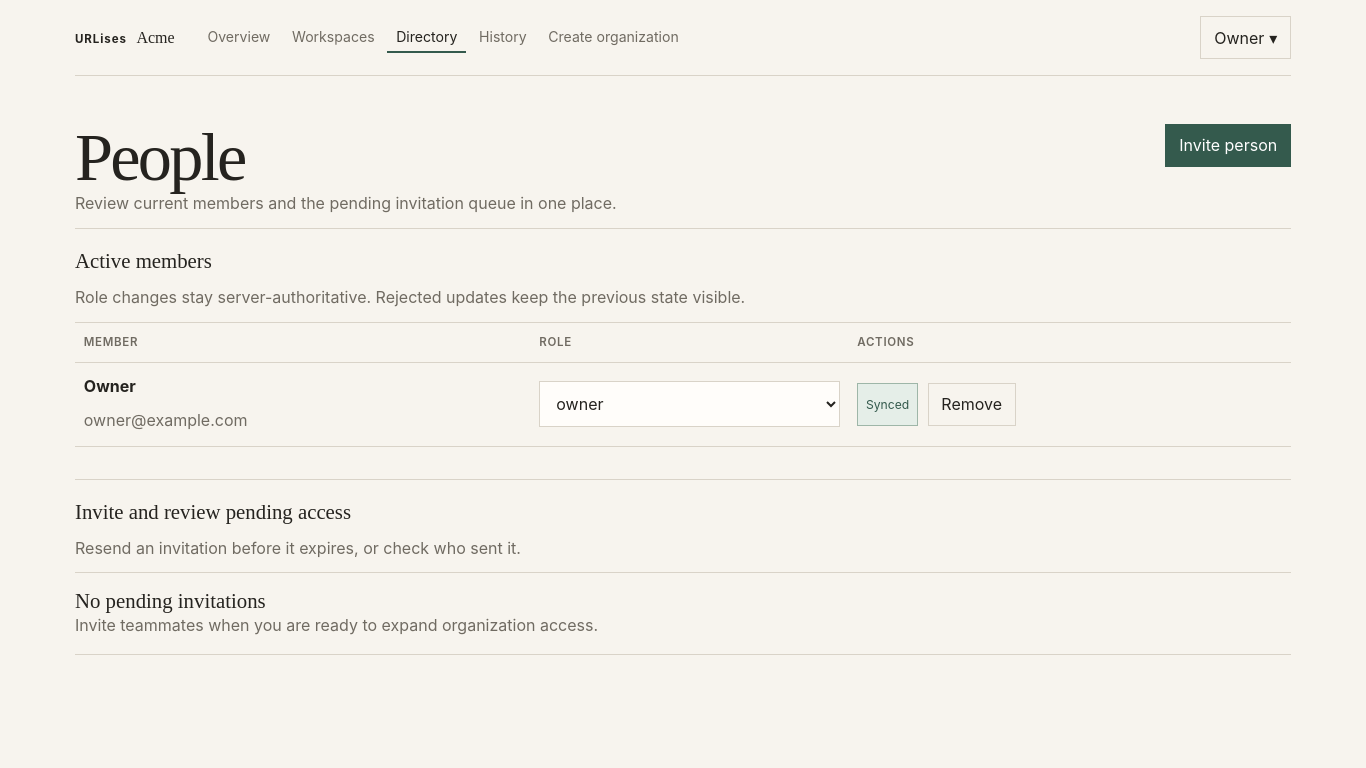
Test: members page › records a new invitation and refreshes the pending list
Expected: the heading "Active members" is shown, [75, 249, 212, 272]
Click the button "Invite person" at coordinates (1228, 145), box [1166, 124, 1291, 167]
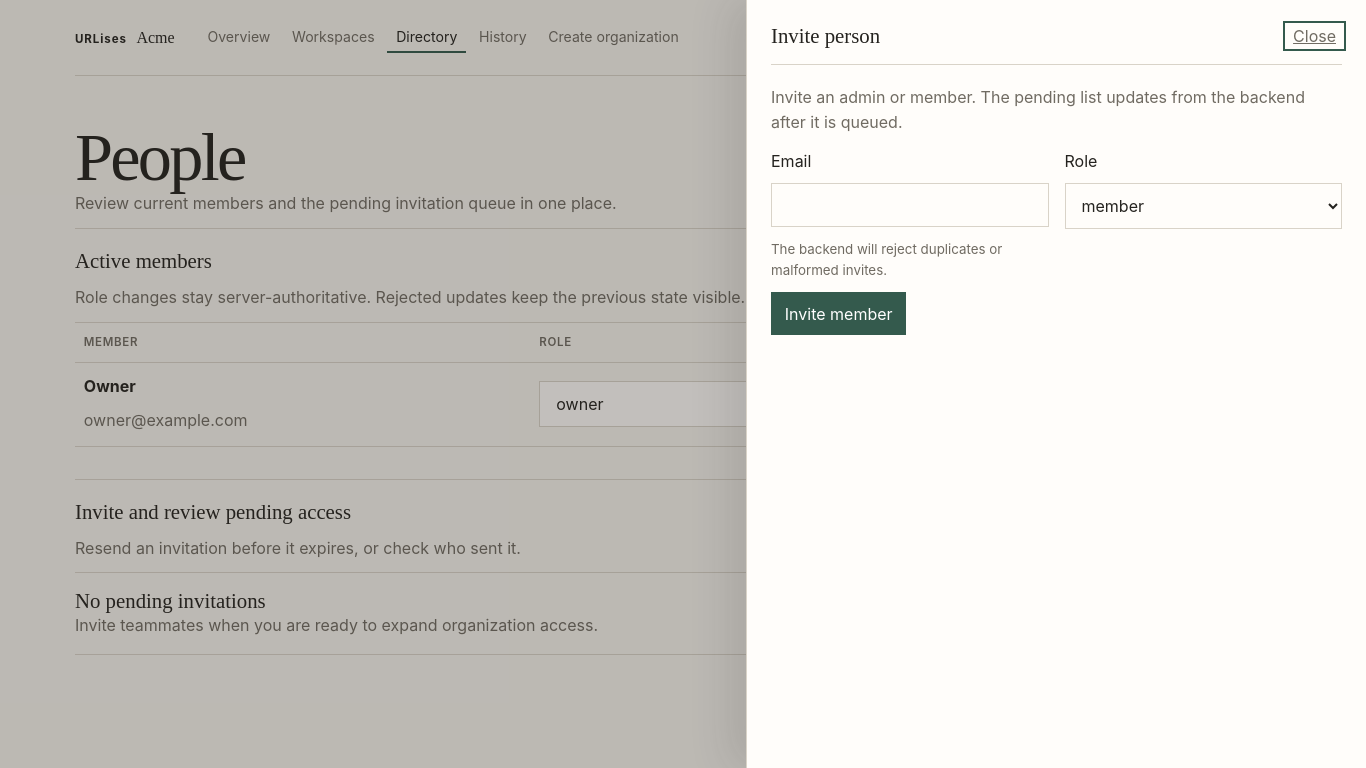
Type "new-admin@example.com" into the field named "invite email" at coordinates (910, 205), box [771, 183, 1048, 227]
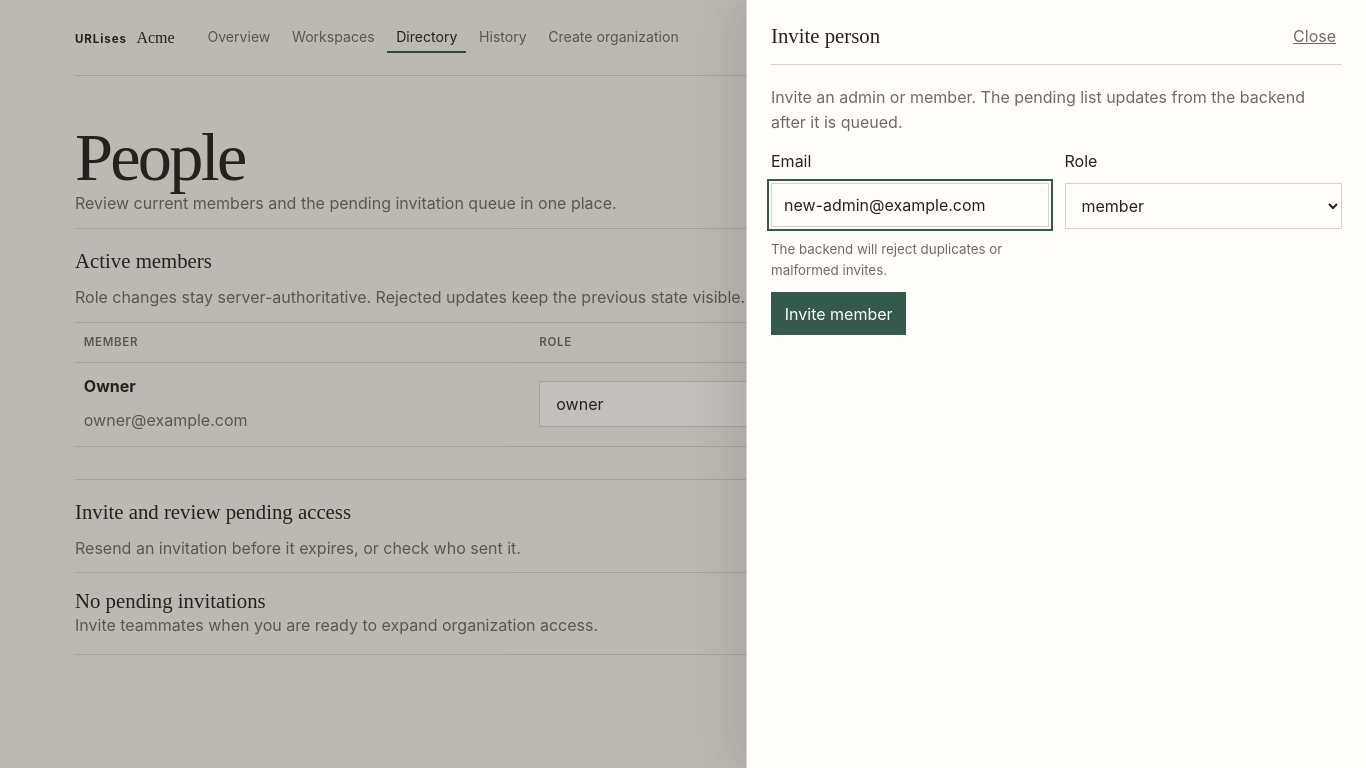
Select "admin" in the dropdown named "invite role" at coordinates (1203, 206), box [1064, 183, 1342, 229]
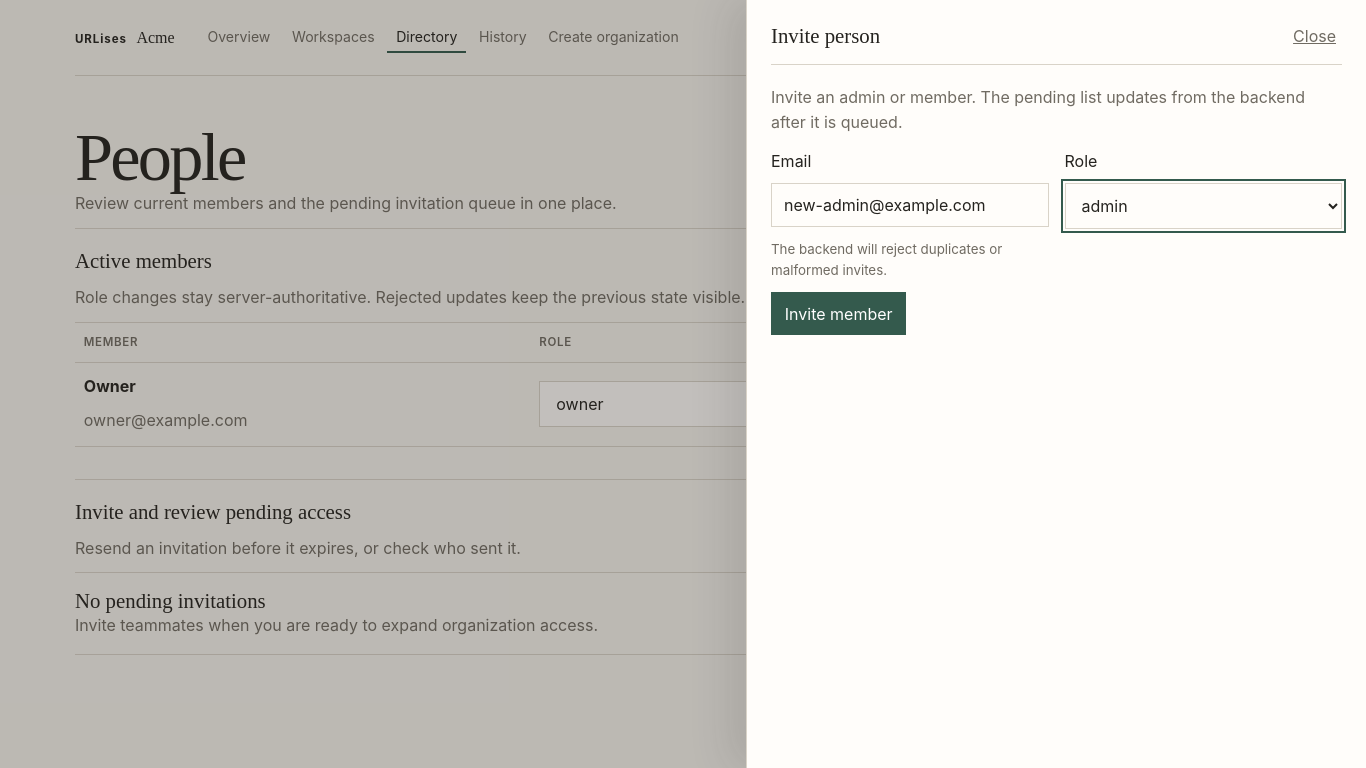
Click the button "Invite member" at coordinates (839, 314), box [771, 292, 906, 335]
(page scrolled)
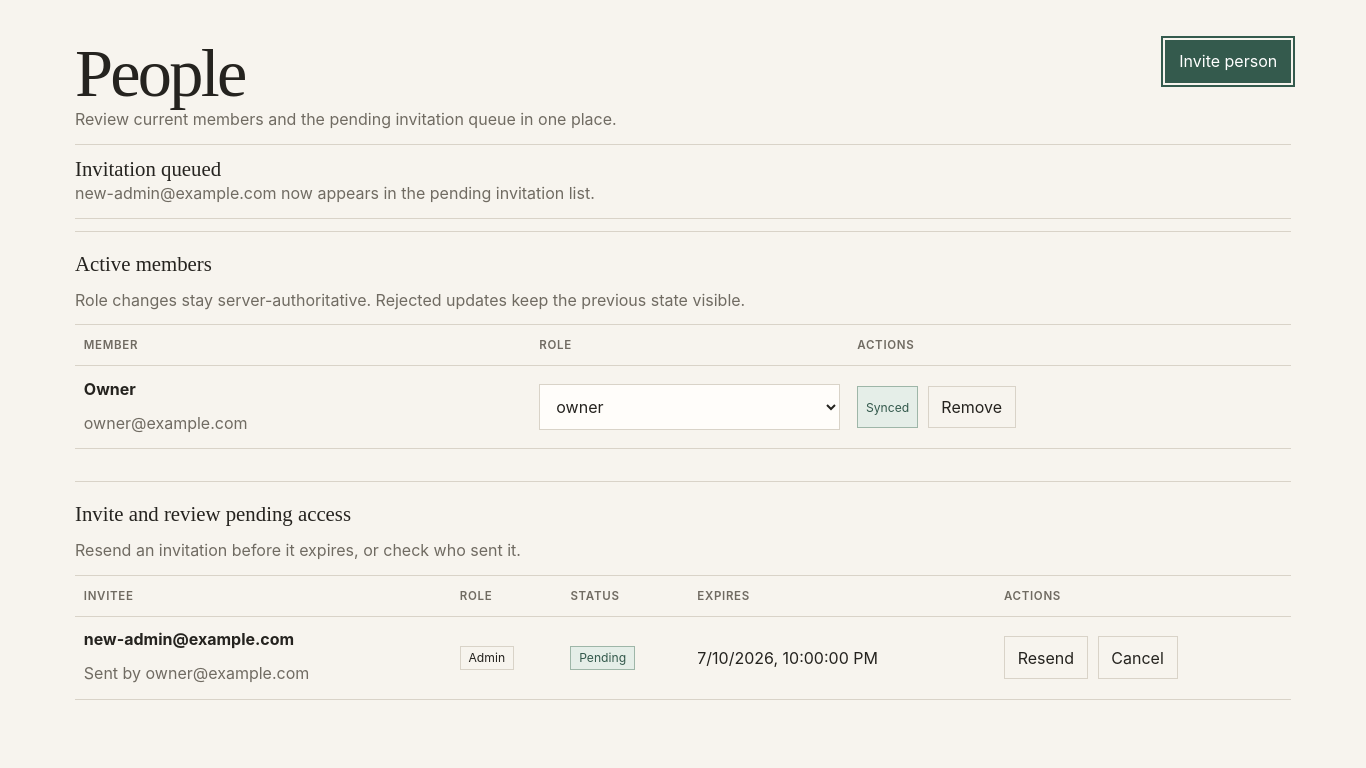
Expected: the heading "Invitation queued" is shown, [75, 157, 221, 180]
Expected: the text "new-admin@example.com" is shown, [84, 630, 294, 650]
Expected: the text "Sent by owner@example.com" is shown, [84, 664, 309, 684]
